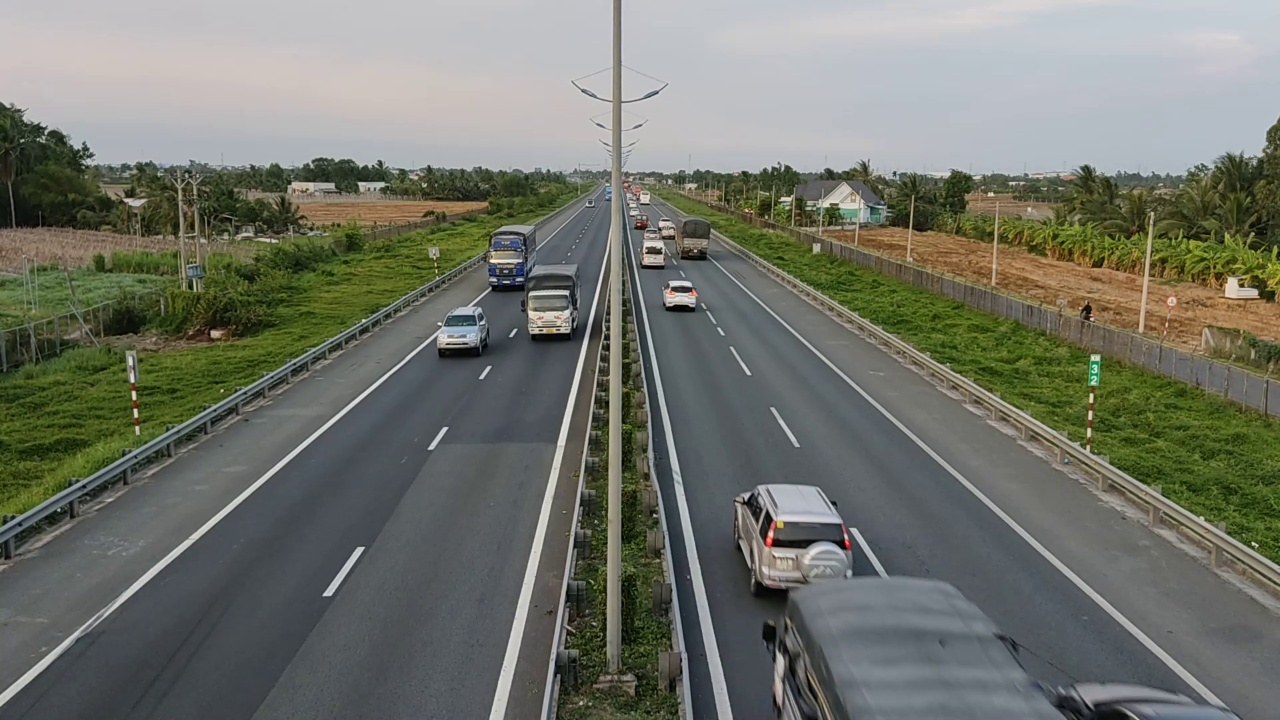car: (732, 483, 855, 593), (436, 306, 491, 357), (661, 279, 699, 311), (641, 238, 667, 269)
truck: (763, 573, 1068, 717), (523, 263, 582, 340), (486, 223, 539, 289), (675, 217, 711, 259)
